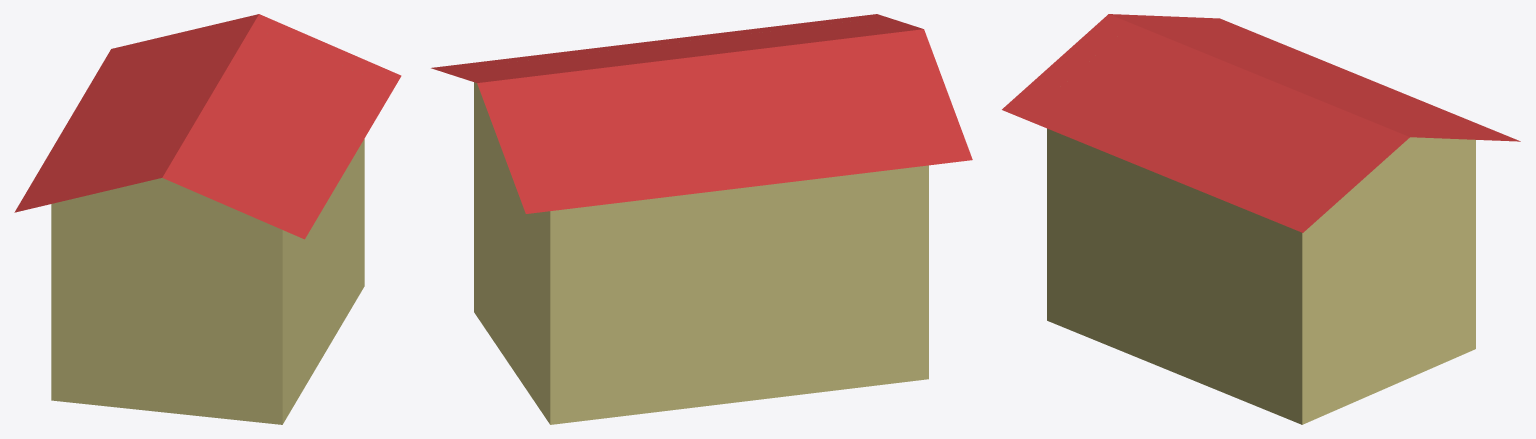
3 views of the same model, side by side, from view 1: azimuth 30°, elevation 25°; view 2: azimuth 150°, elevation 25°; view 3: azimuth 270°, elevation 25° (orthographic). The views are drawn at different scales.
Size of the model in its own units: 12.1 by 12.16 by 6.71.
